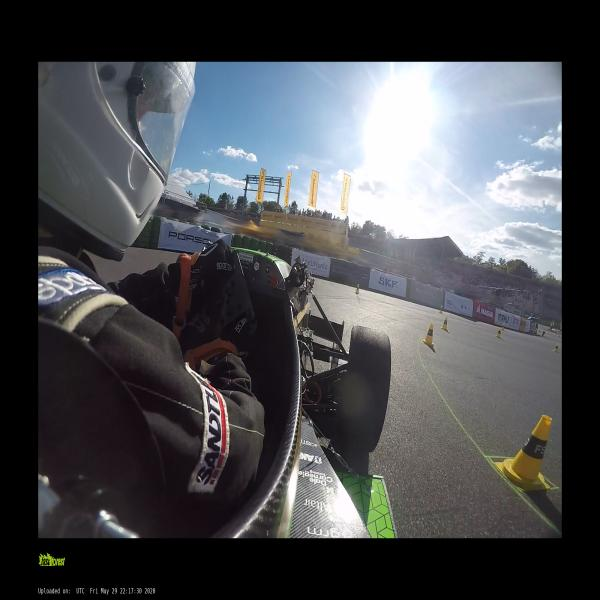yellow_cone: (501, 416, 552, 488), (422, 324, 435, 346), (439, 317, 448, 331), (496, 328, 501, 338), (355, 284, 360, 294), (553, 344, 559, 352), (439, 306, 442, 314), (501, 325, 504, 330)
